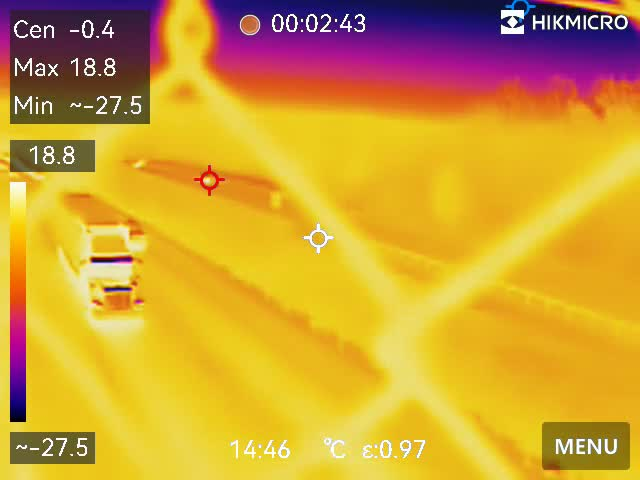heavyTruck: (50, 187, 154, 323)
